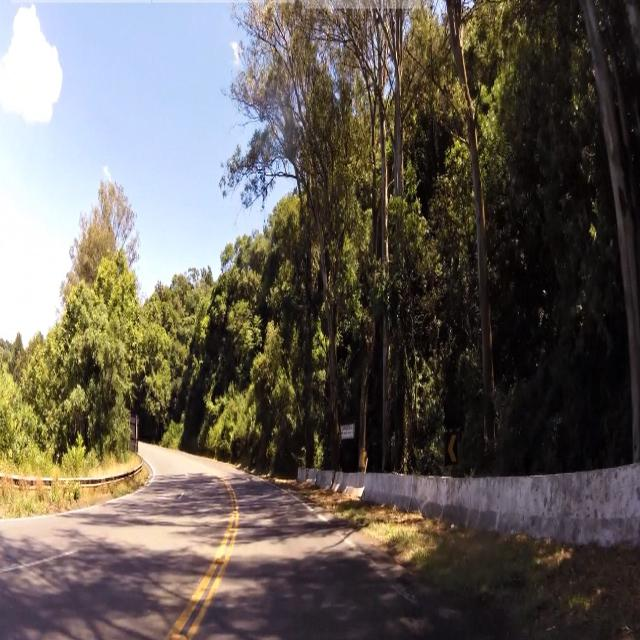Del: (446, 434, 458, 468)
